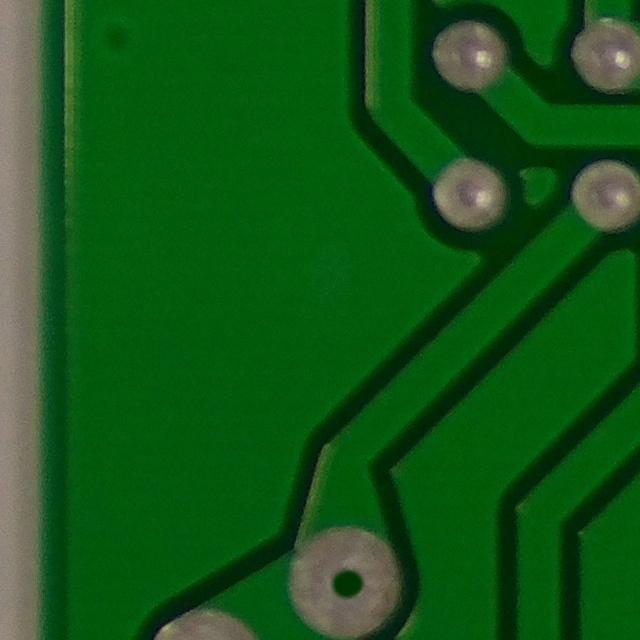missing_hole: (284, 530, 403, 640)
